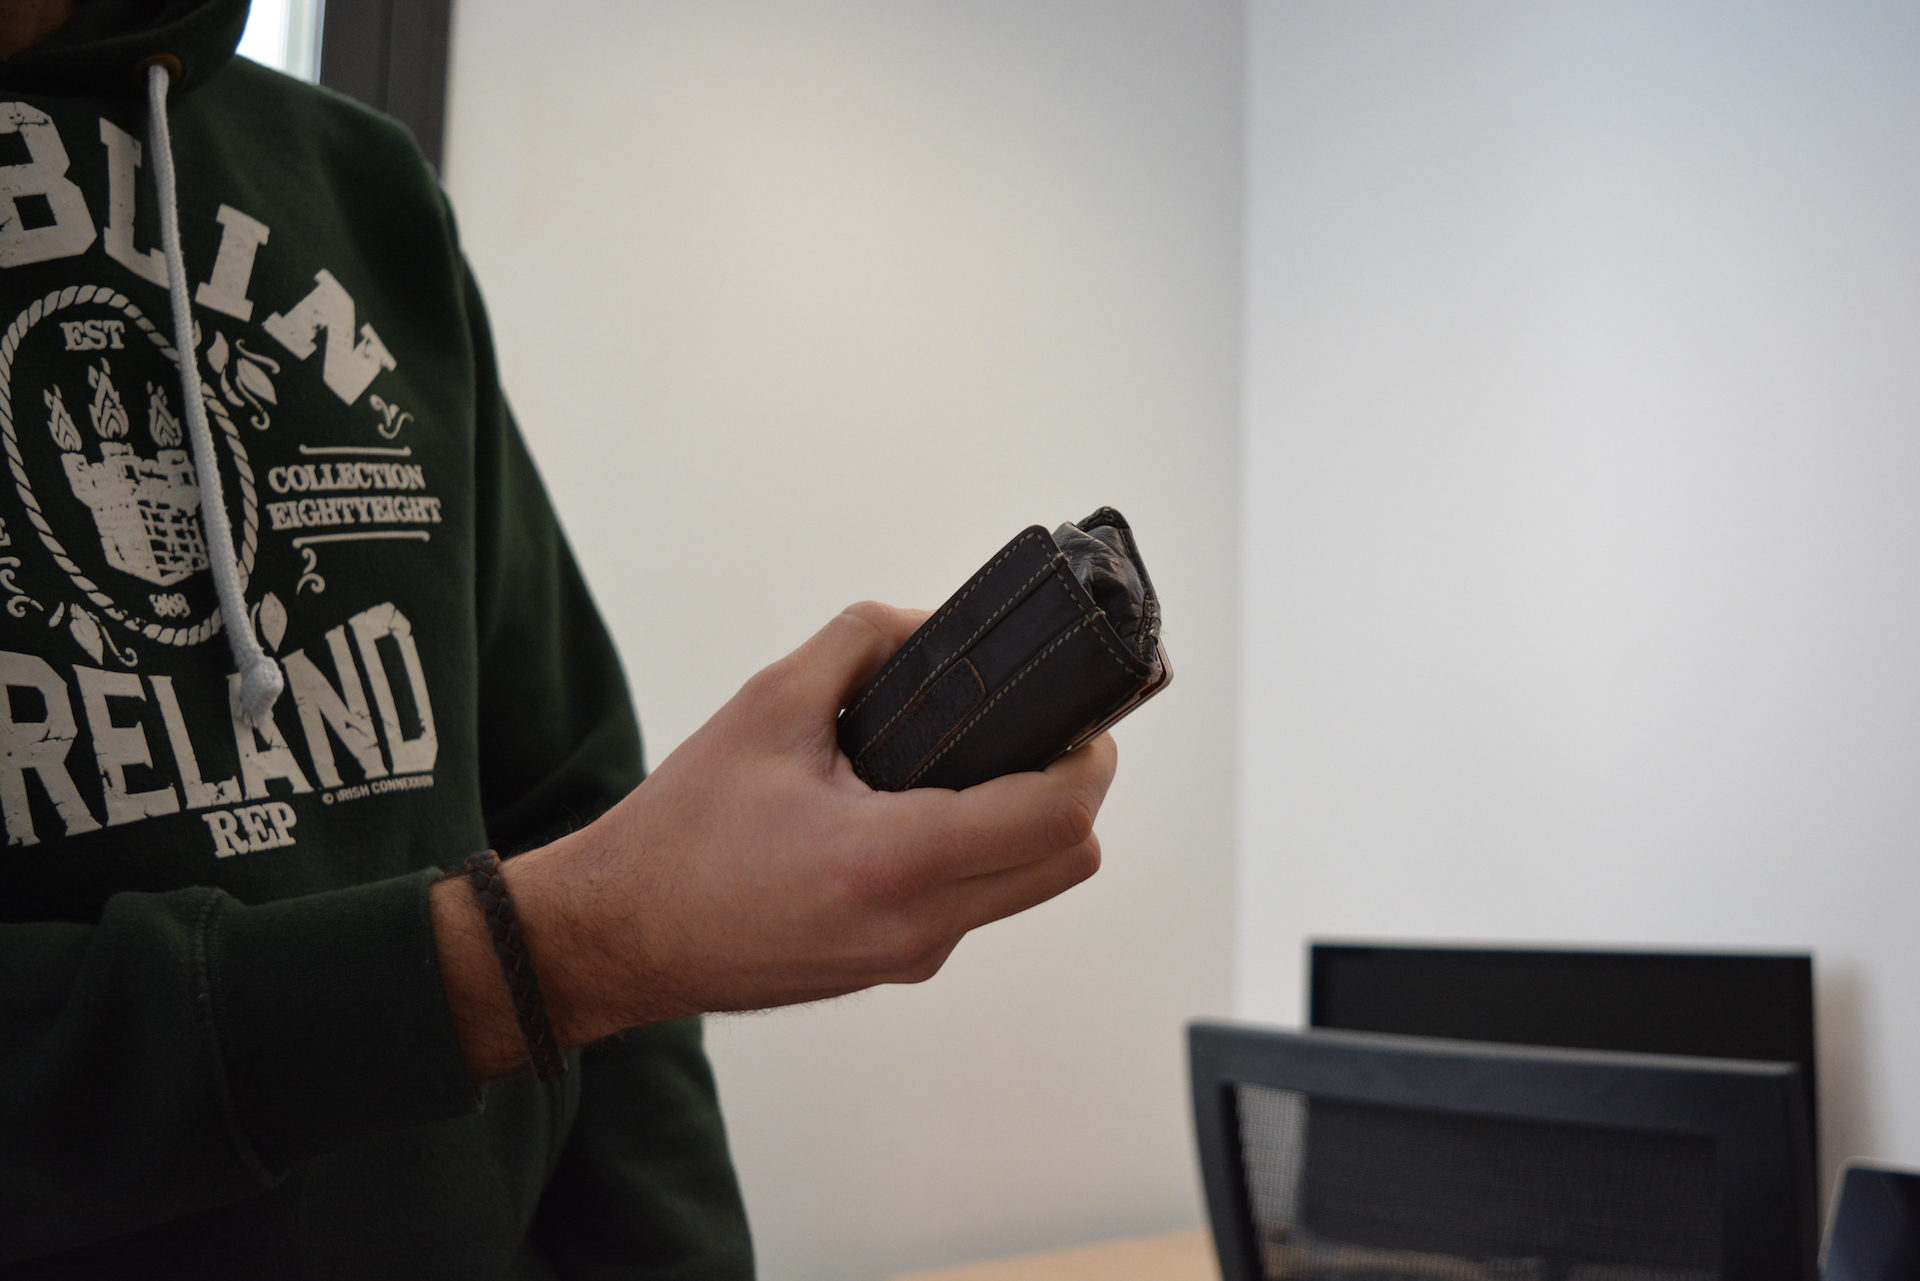monedero: (833, 503, 1177, 798)
